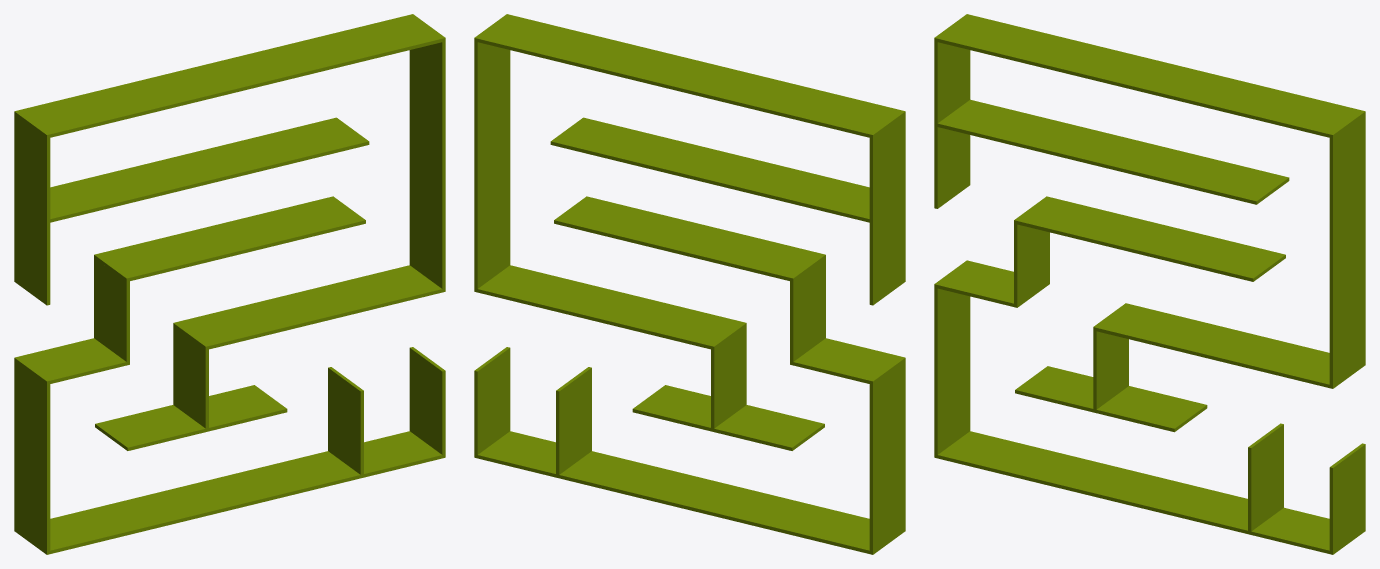
Rendered from PB_Level-02.fbx.
3 renders of one model, left to right at view 1: azimuth 30°, elevation 25°; view 2: azimuth 150°, elevation 25°; view 3: azimuth 330°, elevation 25°, orthographic.
Parts seen in each view (by area): view 1: Level 2 Shape; view 2: Level 2 Shape; view 3: Level 2 Shape.
Boxes of the visible parts, x1,y1,x2,y2 form: Level 2 Shape: [14, 14, 445, 554]; Level 2 Shape: [474, 14, 905, 554]; Level 2 Shape: [934, 14, 1365, 554].
Bounding box in the file's own units: 8465 × 8516 × 1200.
